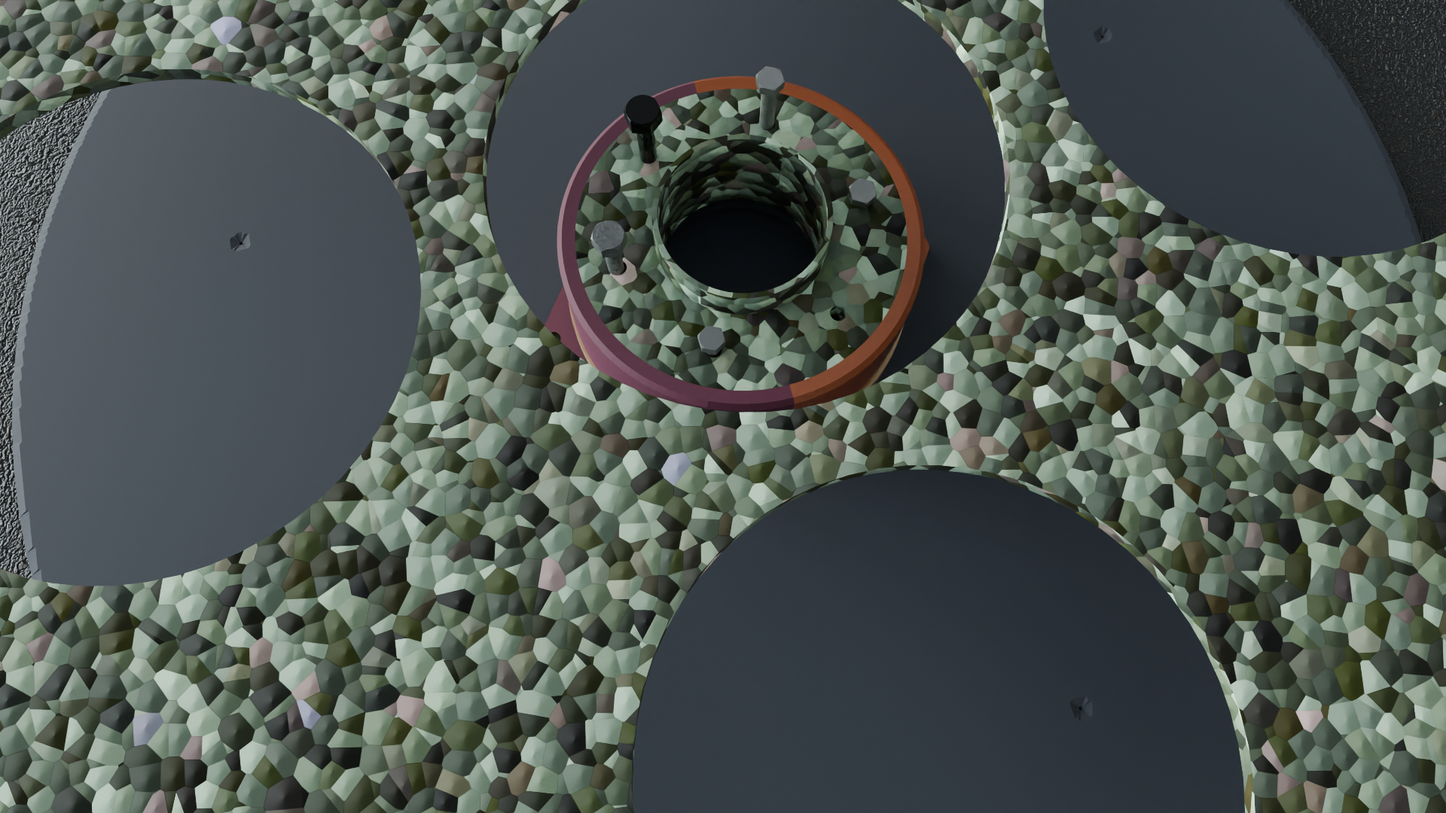bolt: (624, 95, 662, 127), (590, 221, 627, 252), (849, 178, 877, 204), (697, 325, 725, 351), (756, 66, 785, 90)
